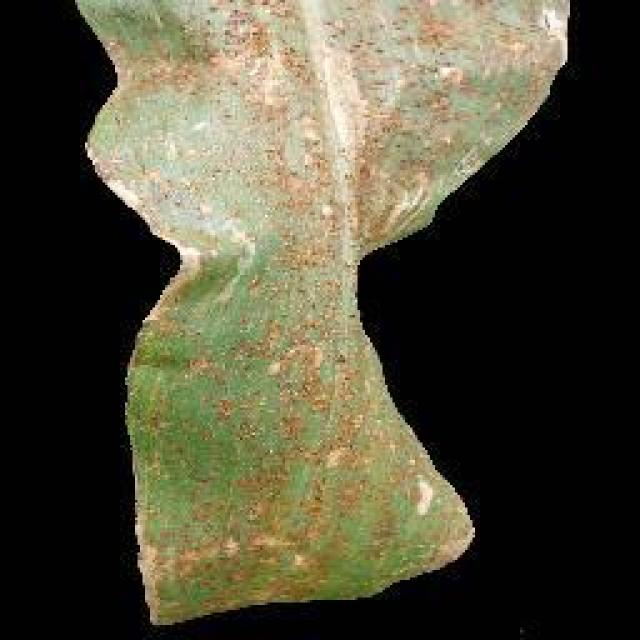Corn Common Rust: (194, 117, 418, 533)
